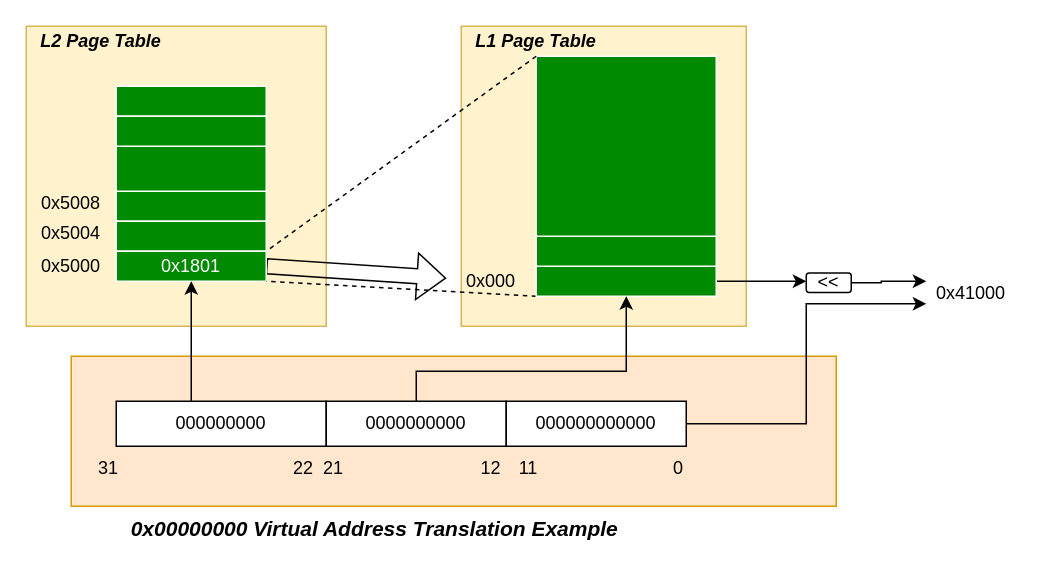
Some shapes in this 1043 by 578 pixel diagram are drawn without their labels. Here are the shapes that lost their labels. From the top down, the box of each, then its label:
(115, 220, 266, 251): 0x1C01
(535, 235, 716, 266): NULL
(535, 265, 716, 296): 0x1040CF
